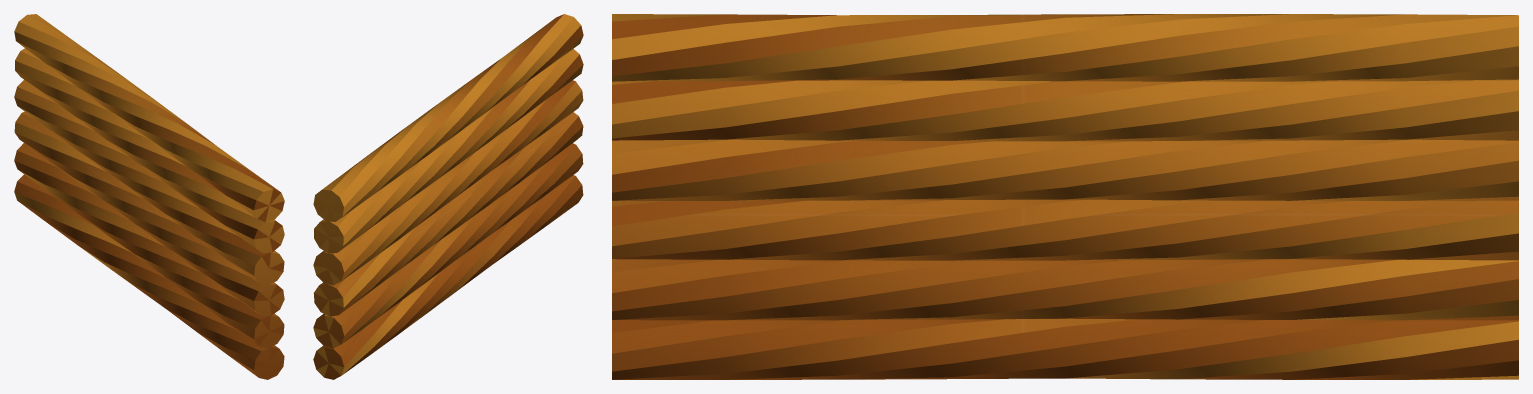
File: WallBottom_whole.fbx
The picture shows the model from 3 angles, left to right: view 1: azimuth 30°, elevation 25°; view 2: azimuth 150°, elevation 25°; view 3: azimuth 270°, elevation 25°; orthographic projection. The views are drawn at different scales.
Parts seen in each view (by area): view 1: g_wall13; view 2: g_wall13; view 3: g_wall13.
Part boxes in pixels (x1,y1,x2,y2): g_wall13: [14, 14, 284, 379]; g_wall13: [313, 14, 583, 379]; g_wall13: [612, 14, 1518, 379].
Size of the model in its own units: 0.3705 by 2.17 by 4.96.
